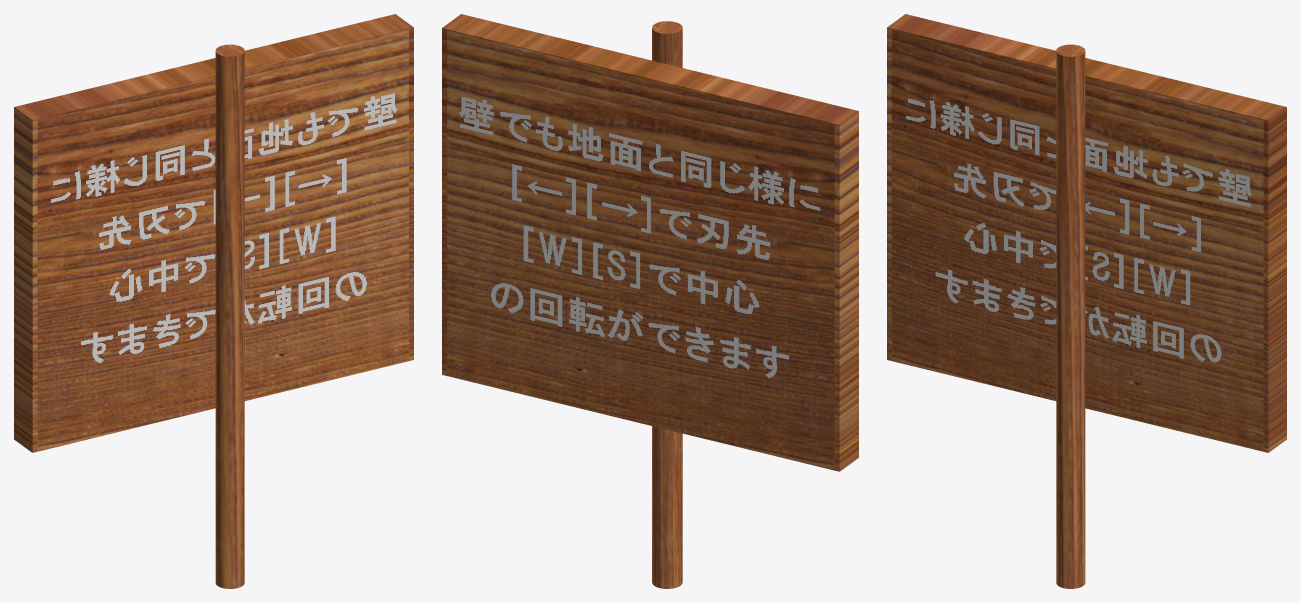
The model's file is Sign6.fbx.
3 renders of one model, left to right at view 1: azimuth 30°, elevation 25°; view 2: azimuth 150°, elevation 25°; view 3: azimuth 330°, elevation 25°, orthographic. The views are drawn at different scales.
Visible parts, largest first — view 1: pCube1, pCylinder1; view 2: pCube1, pCylinder1; view 3: pCube1, pCylinder1.
Part boxes in pixels (bbox=[...]): pCube1: bbox=[14, 14, 413, 452]; pCylinder1: bbox=[215, 44, 244, 588]; pCube1: bbox=[442, 14, 858, 471]; pCylinder1: bbox=[652, 21, 682, 588]; pCube1: bbox=[887, 14, 1286, 452]; pCylinder1: bbox=[1056, 44, 1085, 588].
Size of the model in its own units: 1.2 by 1.6 by 0.1781.
